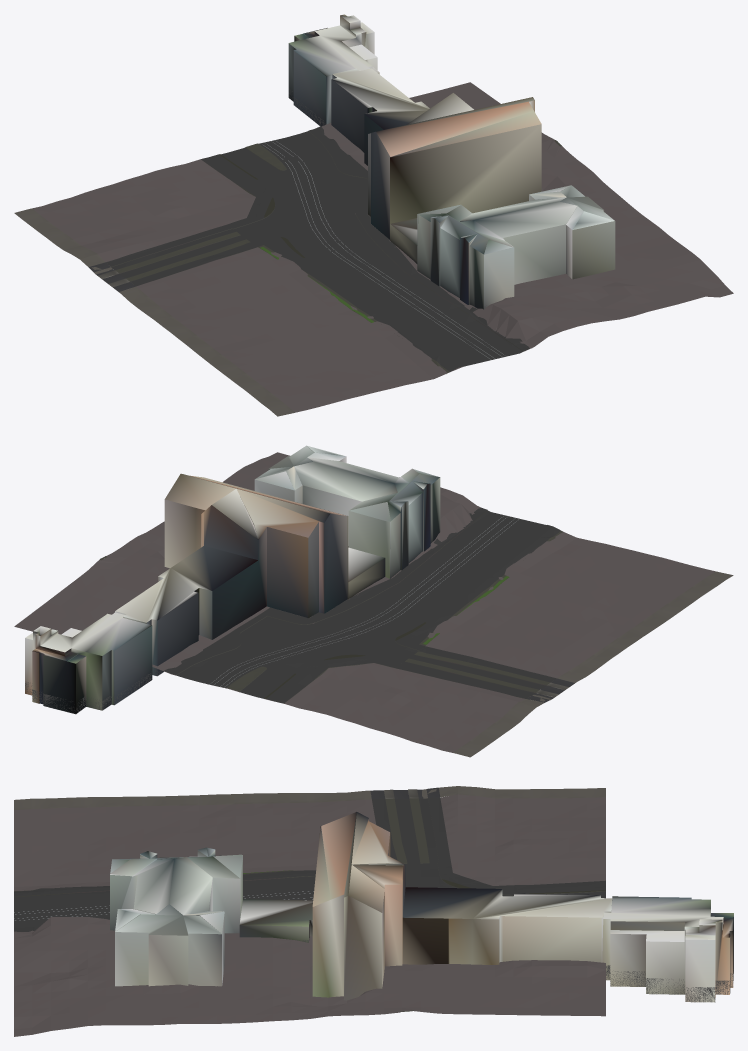
The picture shows the model from 3 angles, top to bottom: view 1: azimuth 30°, elevation 25°; view 2: azimuth 150°, elevation 25°; view 3: azimuth 270°, elevation 25°; orthographic projection. The views are drawn at different scales.
Visible parts, largest first — view 1: c_m14_p02; view 2: c_m14_p02; view 3: c_m14_p02.
Part boxes in pixels (box(x1,y1,x2,y2)): c_m14_p02: box(14, 14, 733, 416); c_m14_p02: box(14, 445, 733, 757); c_m14_p02: box(14, 786, 733, 1036).
Bounding box in the file's own units: 128 × 30.19 × 156.
